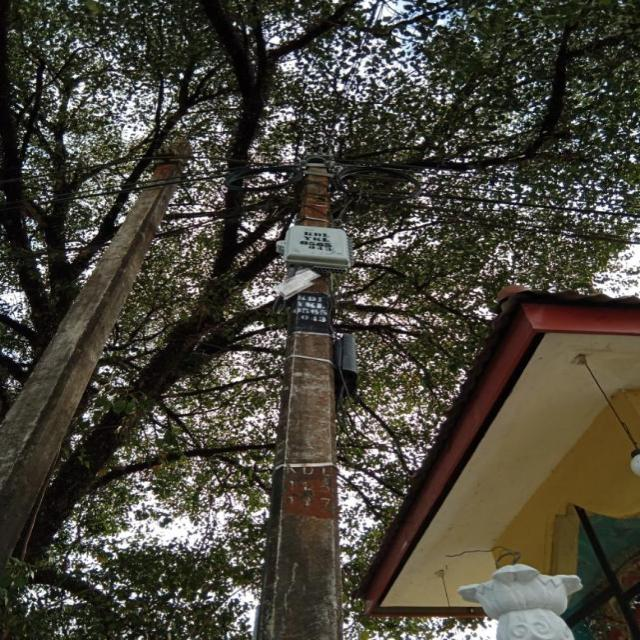light_pole: (0, 115, 194, 640), (256, 151, 353, 640)
